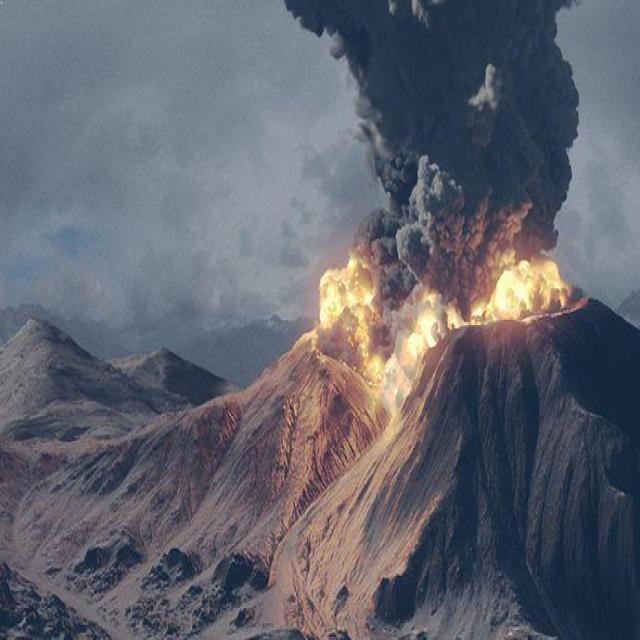Fire: (302, 248, 577, 402)
Smoke: (280, 7, 585, 364)
